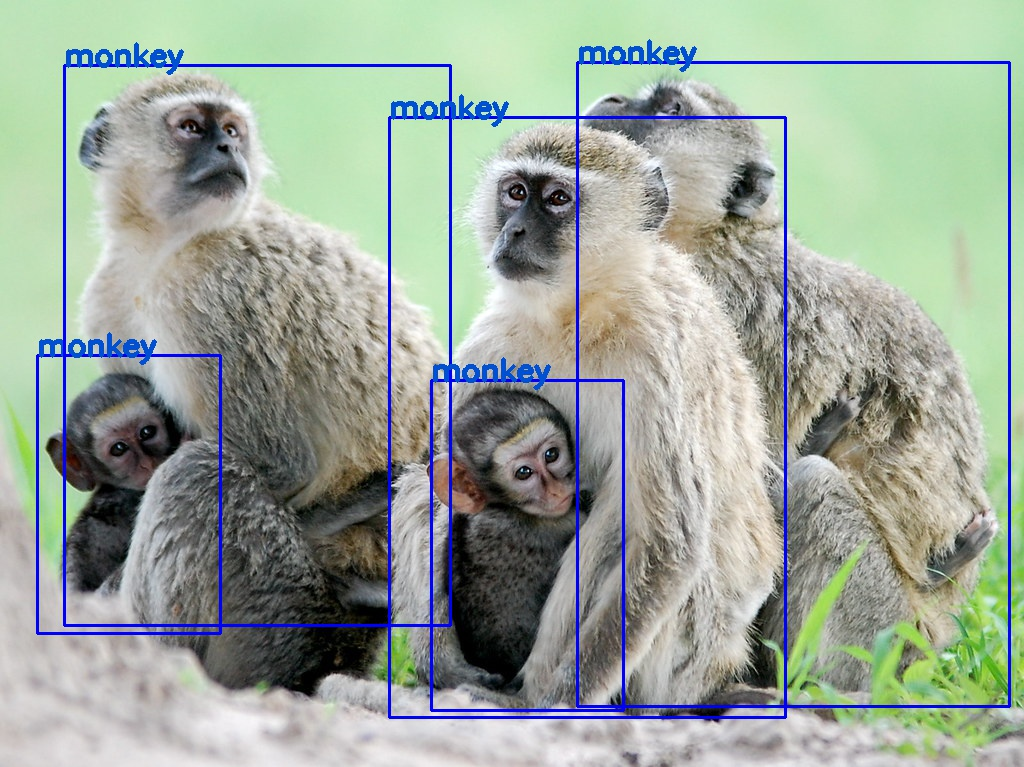monkey: (576, 62, 1008, 706), (388, 117, 784, 717), (64, 64, 450, 624), (430, 380, 622, 710), (36, 355, 219, 633)
